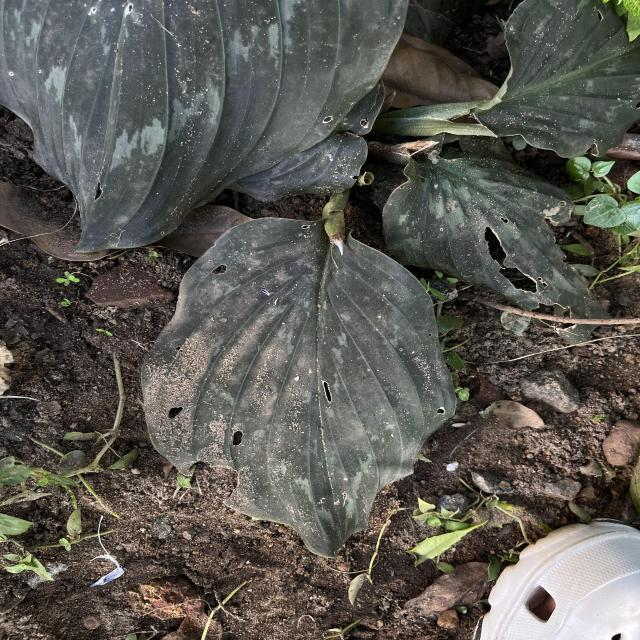Kaempferia galanga linn: (138, 214, 460, 561)
